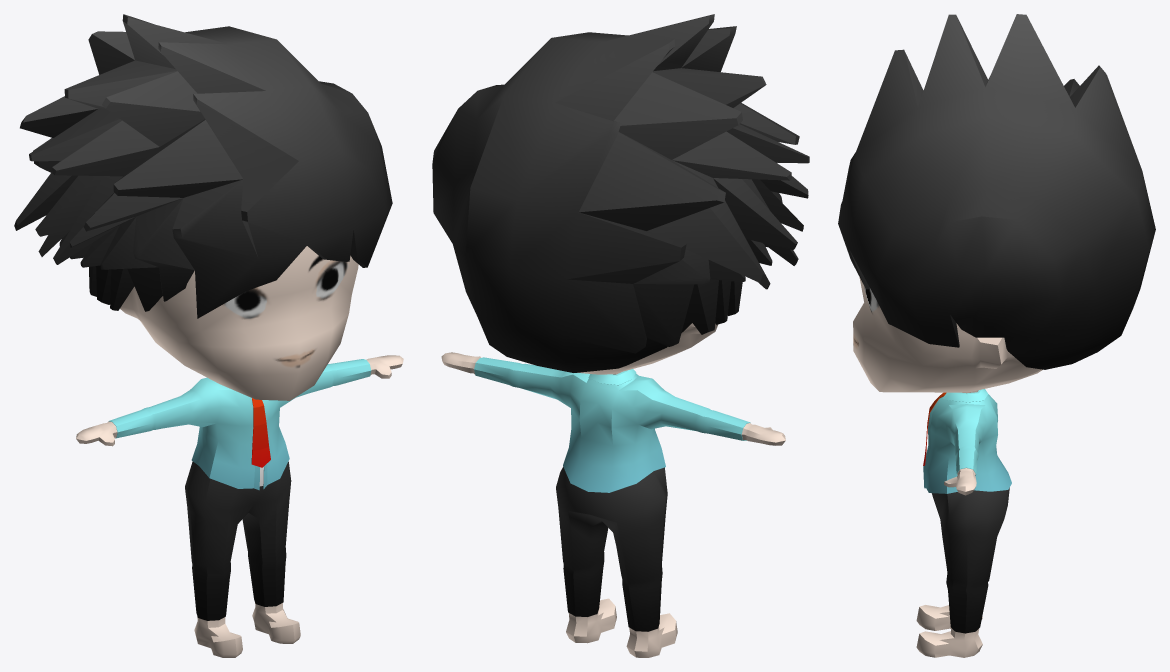
Rendered from Char_COWOK_004.fbx.
3 renders of one model, left to right at view 1: azimuth 30°, elevation 25°; view 2: azimuth 150°, elevation 25°; view 3: azimuth 270°, elevation 25°, orthographic. The views are drawn at different scales.
Parts seen in each view (by area): view 1: Char 1.019, Char 1.018, Char 1.021, Char 1.020, Char 1.022; view 2: Char 1.019, Char 1.020, Char 1.021, Char 1.018; view 3: Char 1.019, Char 1.018, Char 1.021, Char 1.020.
Part boxes in pixels (x1,y1,x2,y2): Char 1.019: [14, 14, 392, 318]; Char 1.018: [76, 246, 403, 657]; Char 1.021: [185, 461, 291, 620]; Char 1.020: [108, 359, 371, 490]; Char 1.022: [251, 398, 270, 467]; Char 1.019: [432, 14, 809, 372]; Char 1.020: [474, 357, 750, 492]; Char 1.021: [556, 467, 667, 631]; Char 1.018: [441, 323, 785, 657]; Char 1.019: [838, 14, 1155, 369]; Char 1.018: [853, 277, 1042, 657]; Char 1.021: [931, 487, 1009, 633]; Char 1.020: [923, 389, 1011, 493].
Size of the model in its own units: 898 by 1499 by 738.
2 materials, 2 textured.
